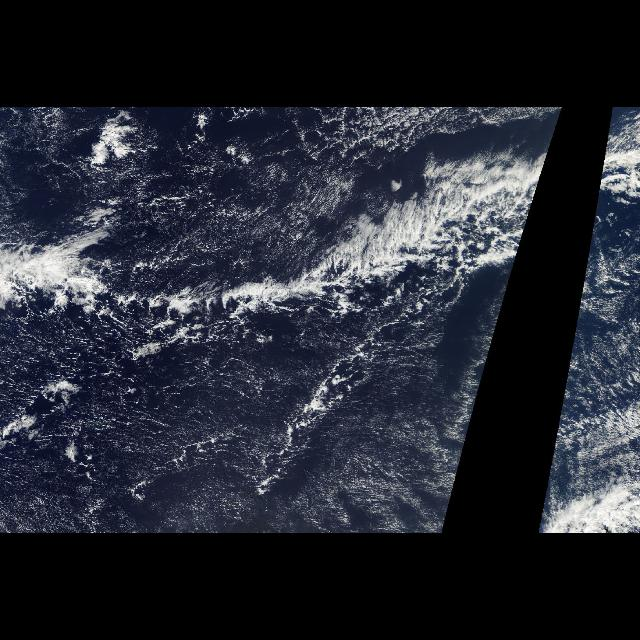Fish: (4, 143, 554, 355), (570, 143, 640, 355)
Gravel: (1, 312, 251, 463)
Sugar: (8, 343, 470, 531)
